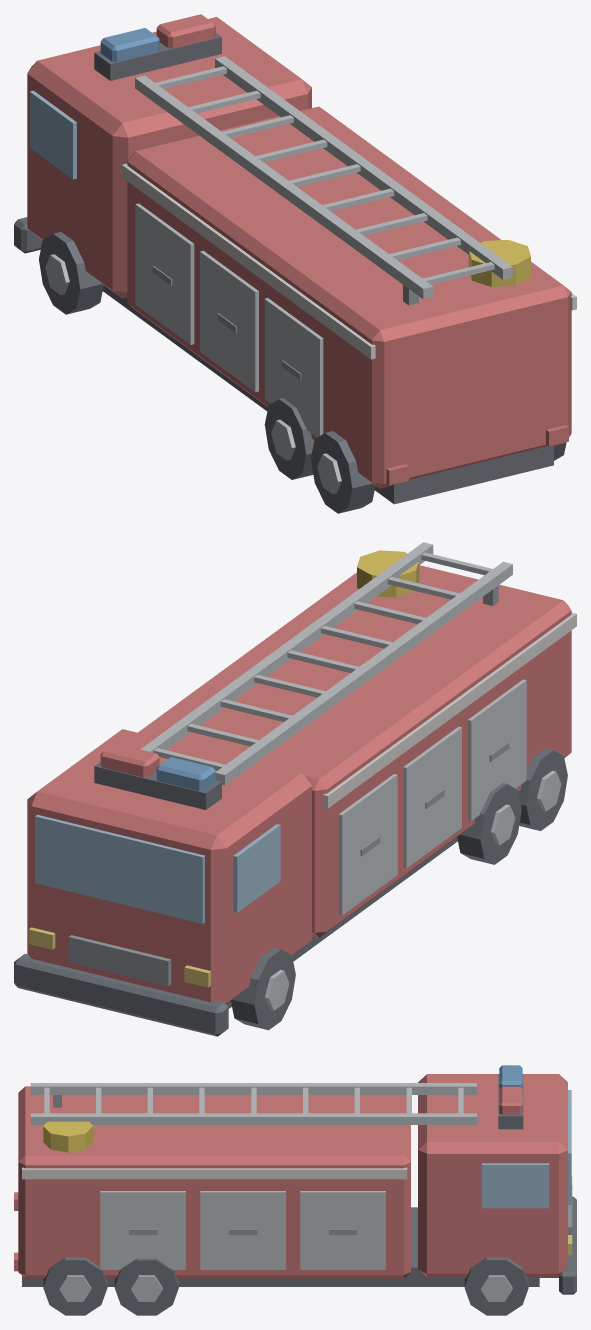
The model's file is veiculos__caminhao_bombeiros.glb.
3 renders of one model, top to bottom at view 1: azimuth 30°, elevation 25°; view 2: azimuth 150°, elevation 25°; view 3: azimuth 270°, elevation 25°, orthographic. The views are drawn at different scales.
Parts seen in each view (by area): view 1: veiculos__caminhao_bombeiros; view 2: veiculos__caminhao_bombeiros; view 3: veiculos__caminhao_bombeiros.
Part boxes in pixels (x1=…): veiculos__caminhao_bombeiros: x1=14, y1=14, x2=576, y2=513; veiculos__caminhao_bombeiros: x1=14, y1=542, x2=576, y2=1036; veiculos__caminhao_bombeiros: x1=14, y1=1065, x2=576, y2=1315.
Size of the model in its own units: 0.56 by 0.5906 by 1.58.
